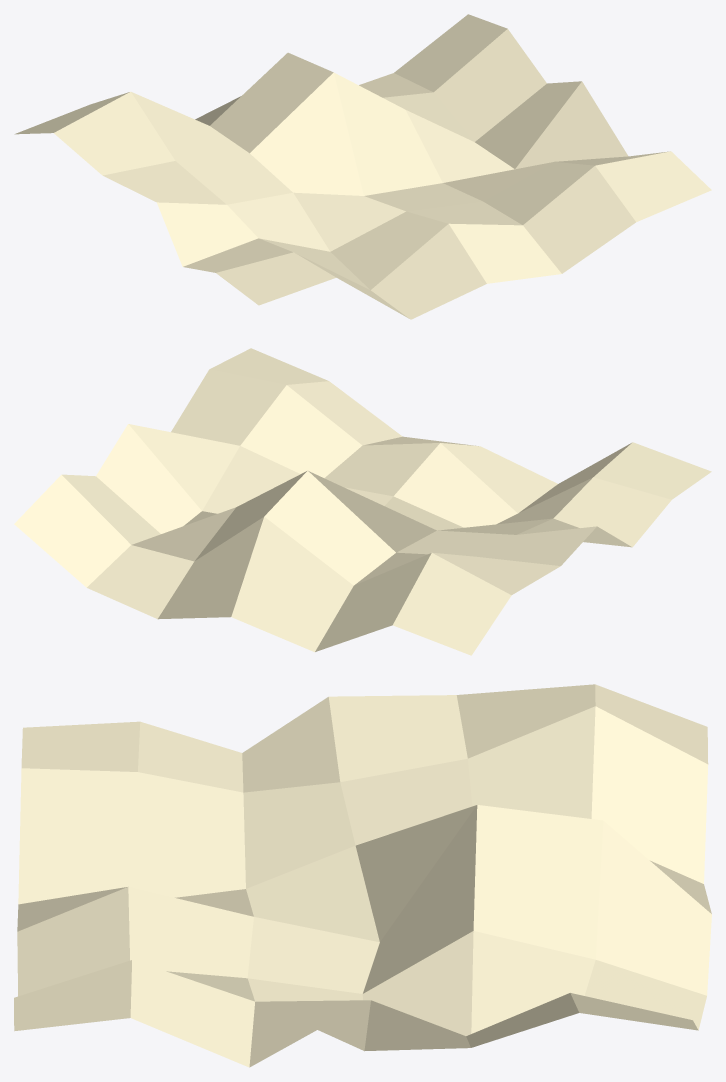
File: Paper 2.fbx
3 views of the same model, one above another, from view 1: azimuth 30°, elevation 25°; view 2: azimuth 150°, elevation 25°; view 3: azimuth 270°, elevation 25° (orthographic). The views are drawn at different scales.
Visible parts, largest first — view 1: Plane.002; view 2: Plane.002; view 3: Plane.002.
Part boxes in pixels (x1,y1,x2,y2): Plane.002: (14, 14, 711, 319); Plane.002: (14, 348, 711, 655); Plane.002: (14, 684, 711, 1067).
Size of the model in its own units: 16.18 by 3.73 by 14.97.
